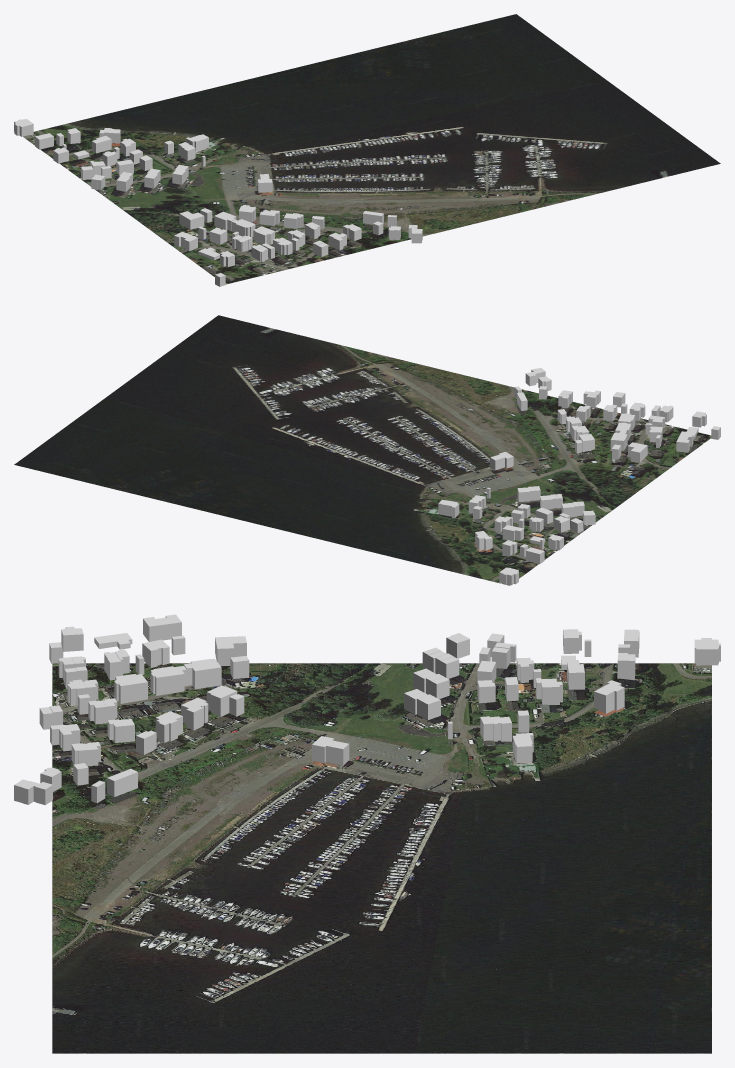
The picture shows the model from 3 angles, top to bottom: view 1: azimuth 30°, elevation 25°; view 2: azimuth 150°, elevation 25°; view 3: azimuth 270°, elevation 25°; orthographic projection. The views are drawn at different scales.
Parts seen in each view (by area): view 1: EXPORT_GOOGLE_SAT_WM, Areas:building; view 2: EXPORT_GOOGLE_SAT_WM, Areas:building; view 3: EXPORT_GOOGLE_SAT_WM, Areas:building.
Part boxes in pixels (<box>): EXPORT_GOOGLE_SAT_WM: <box>23,14,720,284</box>; Areas:building: <box>14,119,422,286</box>; EXPORT_GOOGLE_SAT_WM: <box>14,315,711,585</box>; Areas:building: <box>438,367,720,585</box>; EXPORT_GOOGLE_SAT_WM: <box>52,663,711,1053</box>; Areas:building: <box>14,614,720,805</box>.
Bounding box in the file's own units: 1097 × 820 × 50.11.
Materials: 1 (1 with a texture image).
